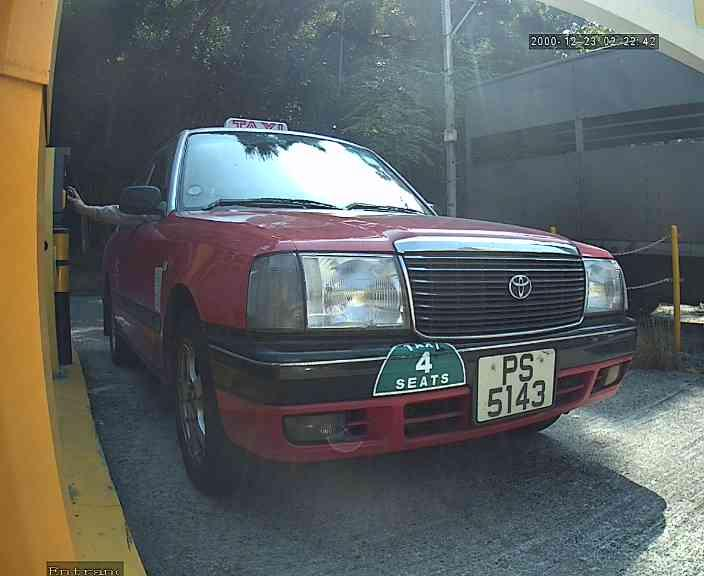Car: (107, 1, 613, 510)
License Plate: (459, 343, 557, 422)
